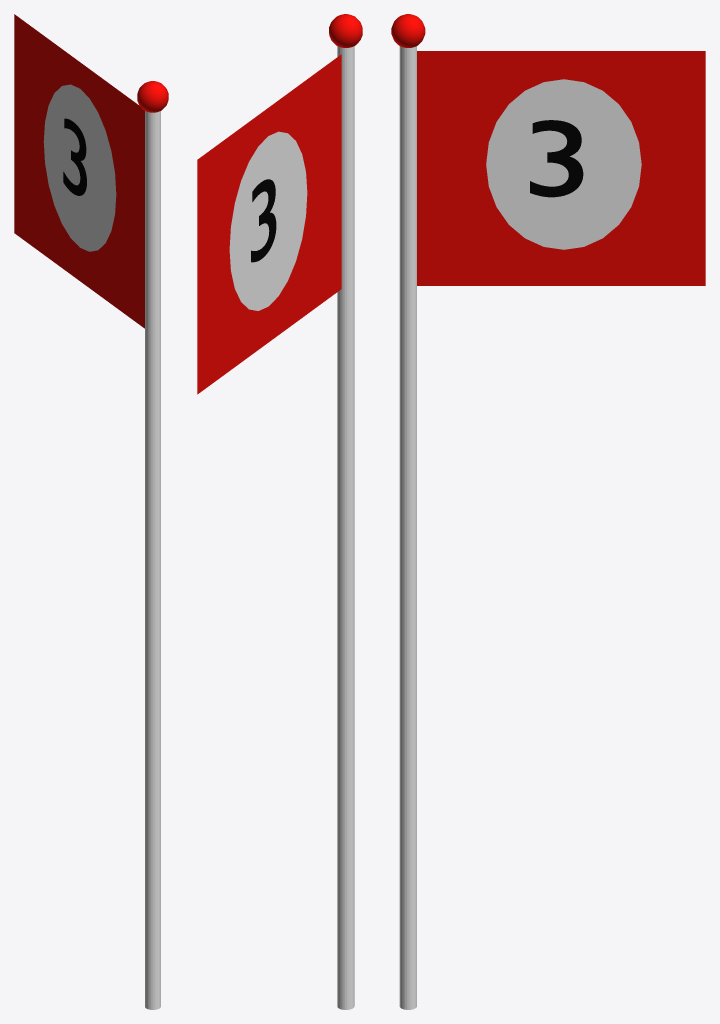
The model's file is flag3.fbx.
3 renders of one model, left to right at view 1: azimuth 30°, elevation 25°; view 2: azimuth 150°, elevation 25°; view 3: azimuth 270°, elevation 25°, orthographic. The views are drawn at different scales.
Parts seen in each view (by area): view 1: Cube, Cylinder.002, Circle.002, 1.004, Sphere.002; view 2: Cube, Cylinder.002, Circle.002, 1.004, Sphere.002; view 3: Cube, Circle.002, Cylinder.002, 1.005, Sphere.002.
Part boxes in pixels (x1,y1,x2,y2): Cube: [14, 14, 144, 328]; Cylinder.002: [145, 111, 160, 1009]; Circle.002: [43, 84, 116, 251]; 1.004: [63, 118, 86, 195]; Sphere.002: [137, 81, 168, 112]; Cube: [197, 54, 341, 394]; Cylinder.002: [337, 46, 354, 1009]; Circle.002: [229, 131, 307, 310]; 1.004: [251, 179, 276, 262]; Sphere.002: [329, 14, 362, 47]; Cube: [417, 51, 705, 285]; Circle.002: [486, 79, 641, 249]; Cylinder.002: [399, 46, 416, 1009]; 1.005: [530, 120, 583, 197]; Sphere.002: [391, 14, 425, 47].
Bounding box in the file's own units: 3.94 × 127 × 36.37.
